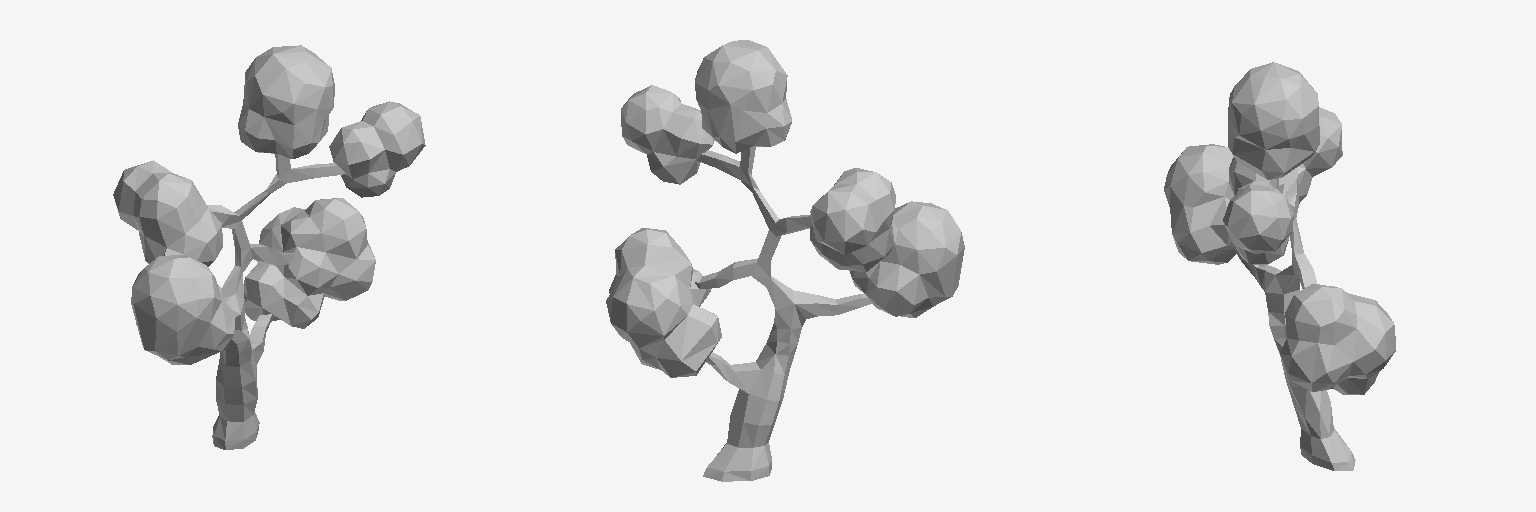
File: Arbol3.obj
3 views of the same model, side by side, from view 1: azimuth 30°, elevation 25°; view 2: azimuth 150°, elevation 25°; view 3: azimuth 270°, elevation 25° (orthographic).
Visible parts, largest first — view 1: polySurface22; view 2: polySurface22; view 3: polySurface22.
Part boxes in pixels (left/top/right/bottom): polySurface22: left=113, top=45, right=425, bottom=449; polySurface22: left=606, top=40, right=964, bottom=481; polySurface22: left=1164, top=62, right=1395, bottom=470.
Size of the model in its own units: 3.35 by 4.11 by 2.16.